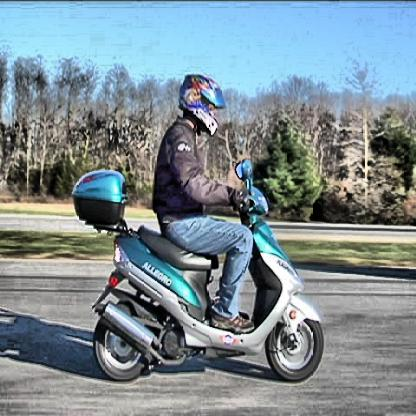wear: (183, 71, 215, 140)
